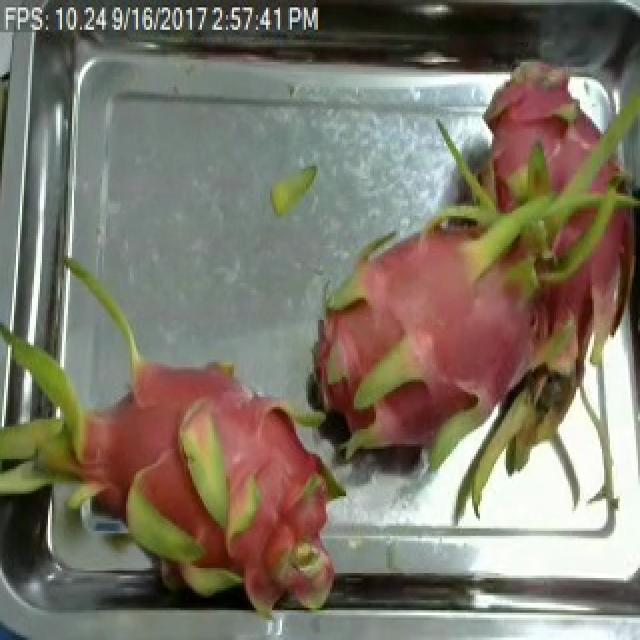Fruit: (466, 37, 632, 243)
